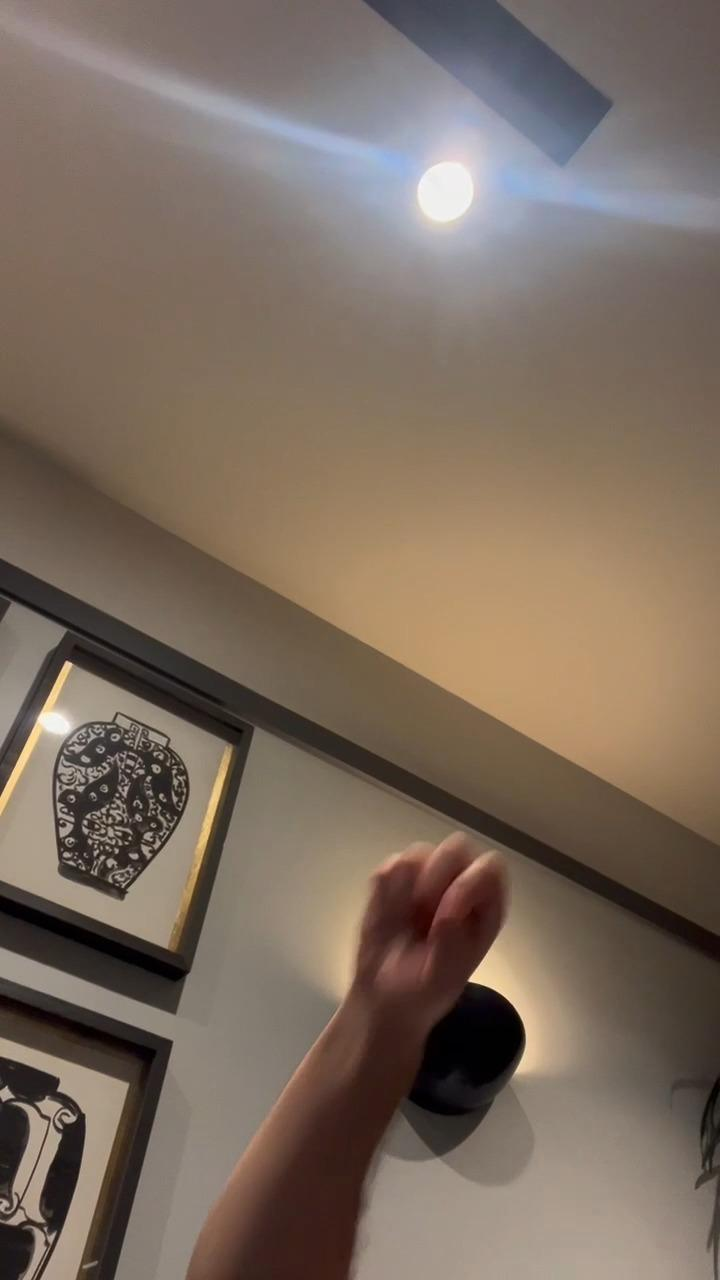Rock: (360, 836, 510, 1011)
